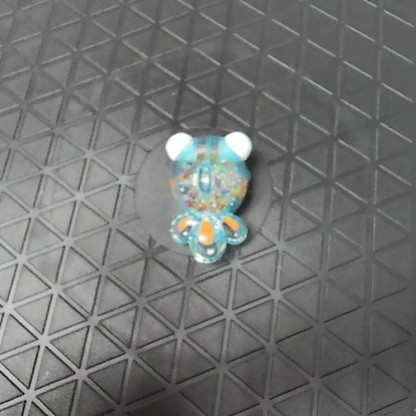bluefish: (160, 126, 255, 266)
